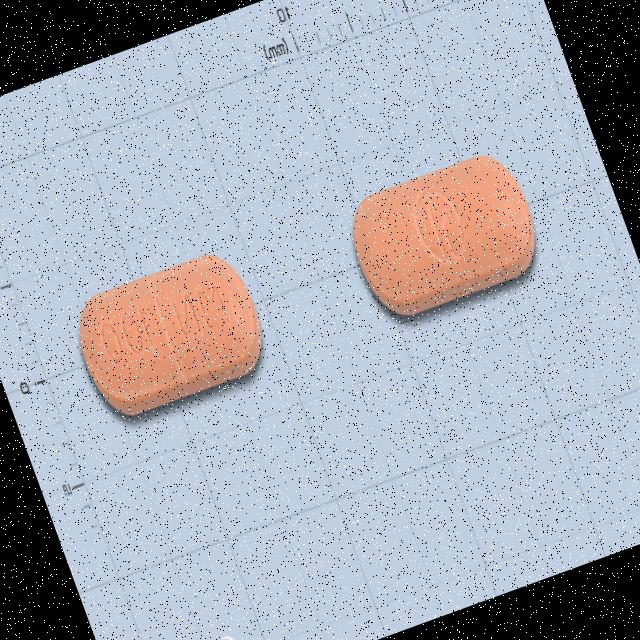Monocin: (64, 245, 276, 428), (338, 145, 550, 324)
